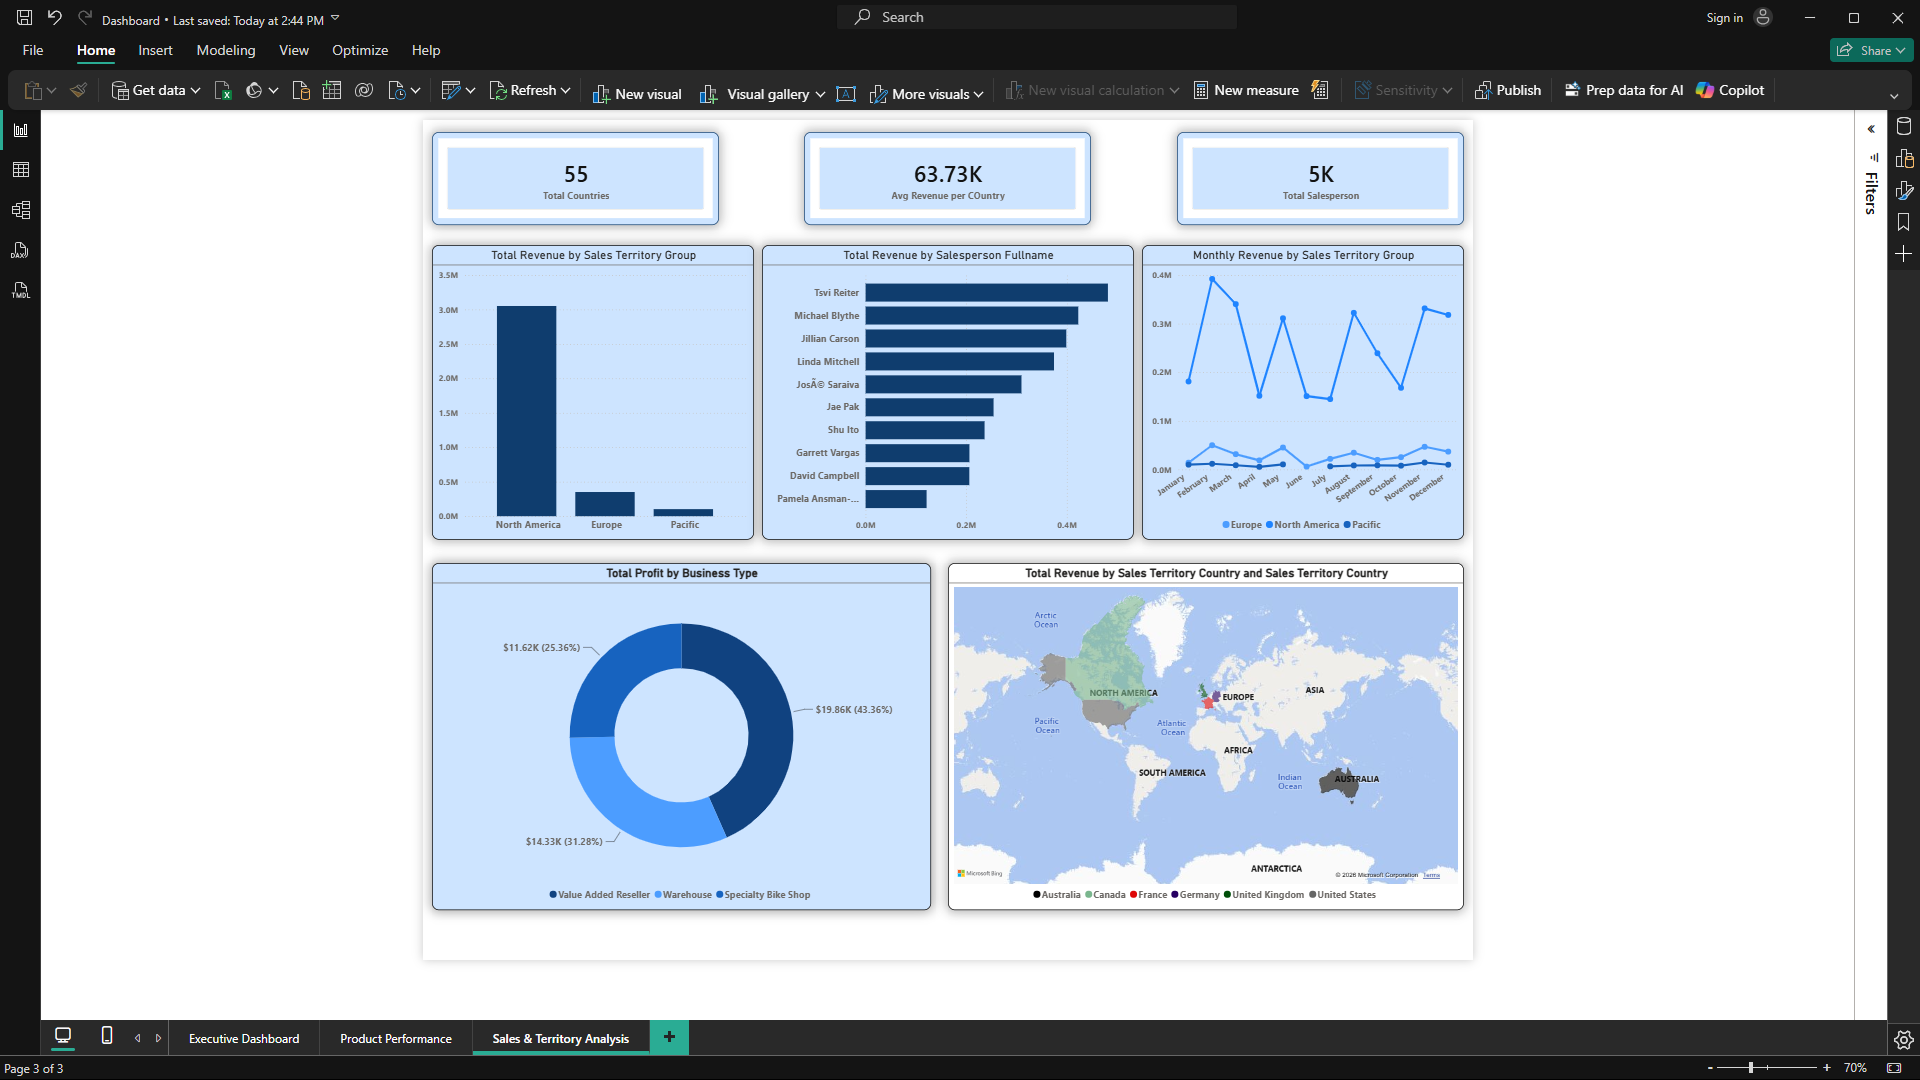

The page's visual inventory and layout, read from the dashboard file:
{"tool":"powerbi","page":{"name":"Sales & Territory Analysis","canvas":[1500,1200],"ordinal":1},"visuals":[{"type":"cardVisual","fields":{"Data":["#Measures.Total Countries"]},"box":[12.9,17.1,410,132.9],"z":0},{"type":"cardVisual","fields":{"Data":["#Measures.Total Salesperson"]},"box":[1077.1,17.1,410,132.9],"z":2},{"type":"cardVisual","fields":{"Data":["#Measures.Avg Revenue per COuntry"]},"box":[544.3,17.1,410,132.9],"z":3},{"type":"clusteredColumnChart","fields":{"Category":["Dim Territory.Sales Territory Group"],"Y":["#Measures.Total Revenue"]},"box":[12.9,178.6,460,421.4],"z":4},{"type":"lineChart","title":"Monthly Revenue by Sales Territory Group","fields":{"Category":["Dim Date.Month"],"Series":["Dim Territory.Sales Territory Group"],"Y":["#Measures.Total Revenue"]},"box":[1027.1,178.6,460,421.4],"z":5},{"type":"clusteredBarChart","fields":{"Category":["Dim Employee.Salesperson Fullname"],"Y":["#Measures.Total Revenue"]},"box":[484.3,178.6,531.4,421.4],"z":6},{"type":"donutChart","fields":{"Category":["Dim Reseller.Business Type"],"Y":["#Measures.Total Profit"]},"box":[12.9,632.9,712.9,495.7],"z":7},{"type":"filledMap","fields":{"Category":["Dim Territory.Sales Territory Country"],"Series":["Dim Territory.Sales Territory Country"]},"box":[750,632.9,737.1,495.7],"z":8}]}

Visuals, with their boxes on the page's 1500x1200 design canvas (x1, y1, x2, y2). These are canvas units, not pixel positions in the 1920x1080 screenshot, which may show the page scaled, cropped or inside an application window:
cardVisual - #Measures.Total Countries: 13, 17, 423, 150
cardVisual - #Measures.Total Salesperson: 1077, 17, 1487, 150
cardVisual - #Measures.Avg Revenue per COuntry: 544, 17, 954, 150
clusteredColumnChart - Dim Territory.Sales Territory Group x #Measures.Total Revenue: 13, 179, 473, 600
"Monthly Revenue by Sales Territory Group" lineChart: 1027, 179, 1487, 600
clusteredBarChart - Dim Employee.Salesperson Fullname x #Measures.Total Revenue: 484, 179, 1016, 600
donutChart - Dim Reseller.Business Type x #Measures.Total Profit: 13, 633, 726, 1129
filledMap - Dim Territory.Sales Territory Country x Dim Territory.Sales Territory Country: 750, 633, 1487, 1129
